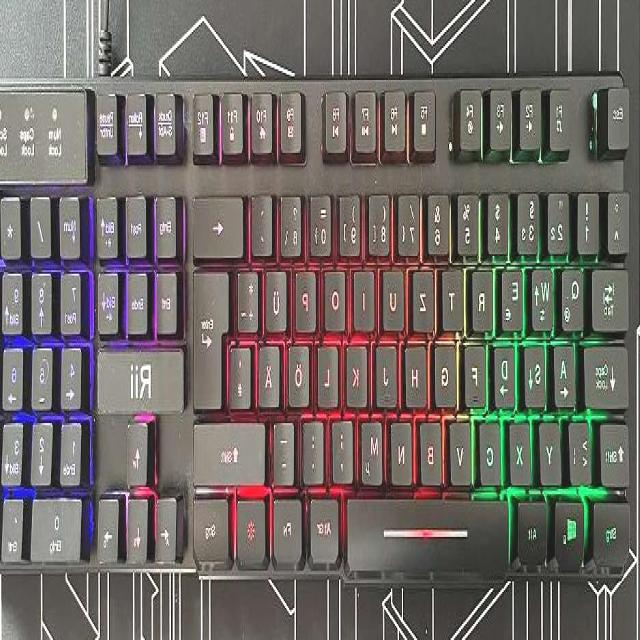0: (311, 187, 335, 253)
1: (579, 185, 601, 251)
2: (549, 183, 572, 253)
3: (519, 183, 543, 253)
4: (489, 183, 511, 251)
5: (458, 185, 481, 253)
6: (428, 185, 452, 253)
7: (399, 185, 422, 253)
8: (370, 185, 394, 253)
9: (340, 185, 364, 253)
a: (555, 335, 578, 406)
accent: (253, 185, 276, 251)
ae: (260, 334, 282, 404)
alt-left: (519, 492, 549, 562)
altgr-right: (312, 489, 342, 559)
b: (421, 411, 445, 481)
c: (481, 412, 504, 482)
caret: (609, 185, 632, 251)
comma: (333, 411, 356, 479)
d: (496, 336, 518, 406)
del: (195, 189, 247, 255)
e: (504, 259, 526, 329)
enter: (195, 258, 232, 406)
f: (466, 334, 488, 404)
g: (436, 333, 459, 404)
h: (407, 334, 429, 404)
hash: (232, 336, 254, 404)
i: (356, 260, 378, 326)
j: (378, 334, 400, 402)
k: (348, 334, 371, 402)
keyboard: (0, 60, 638, 591)
l: (319, 334, 342, 402)
less: (570, 412, 594, 480)
m: (363, 411, 386, 481)
minus: (275, 413, 297, 479)
n: (392, 412, 415, 480)
o: (327, 262, 349, 326)
oe: (290, 336, 312, 402)
p: (297, 261, 319, 327)
plus: (240, 261, 262, 327)
point: (305, 411, 327, 479)
q: (563, 260, 587, 328)
r: (473, 259, 496, 329)
s: (526, 336, 549, 406)
shift-left: (601, 414, 633, 484)
shift-lock: (585, 336, 631, 406)
shift-right: (196, 412, 268, 480)
space: (347, 485, 513, 571)
ss: (283, 187, 305, 253)
strg-left: (595, 494, 633, 562)
strg-right: (194, 487, 232, 558)
t: (444, 260, 466, 326)
tab: (592, 261, 631, 329)
u: (384, 260, 407, 326)
ue: (267, 260, 290, 328)
v: (451, 411, 474, 481)
w: (533, 258, 555, 328)
x: (511, 414, 533, 480)
y: (541, 412, 564, 482)
z: (415, 260, 437, 328)
